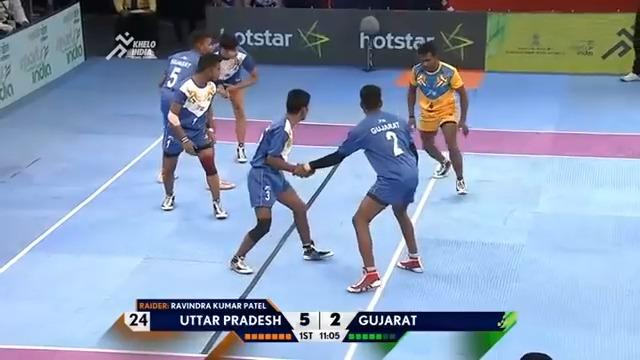Player: (292, 83, 424, 293), (227, 86, 335, 277), (157, 30, 235, 191), (213, 28, 247, 156)
Raider: (405, 39, 472, 195)
